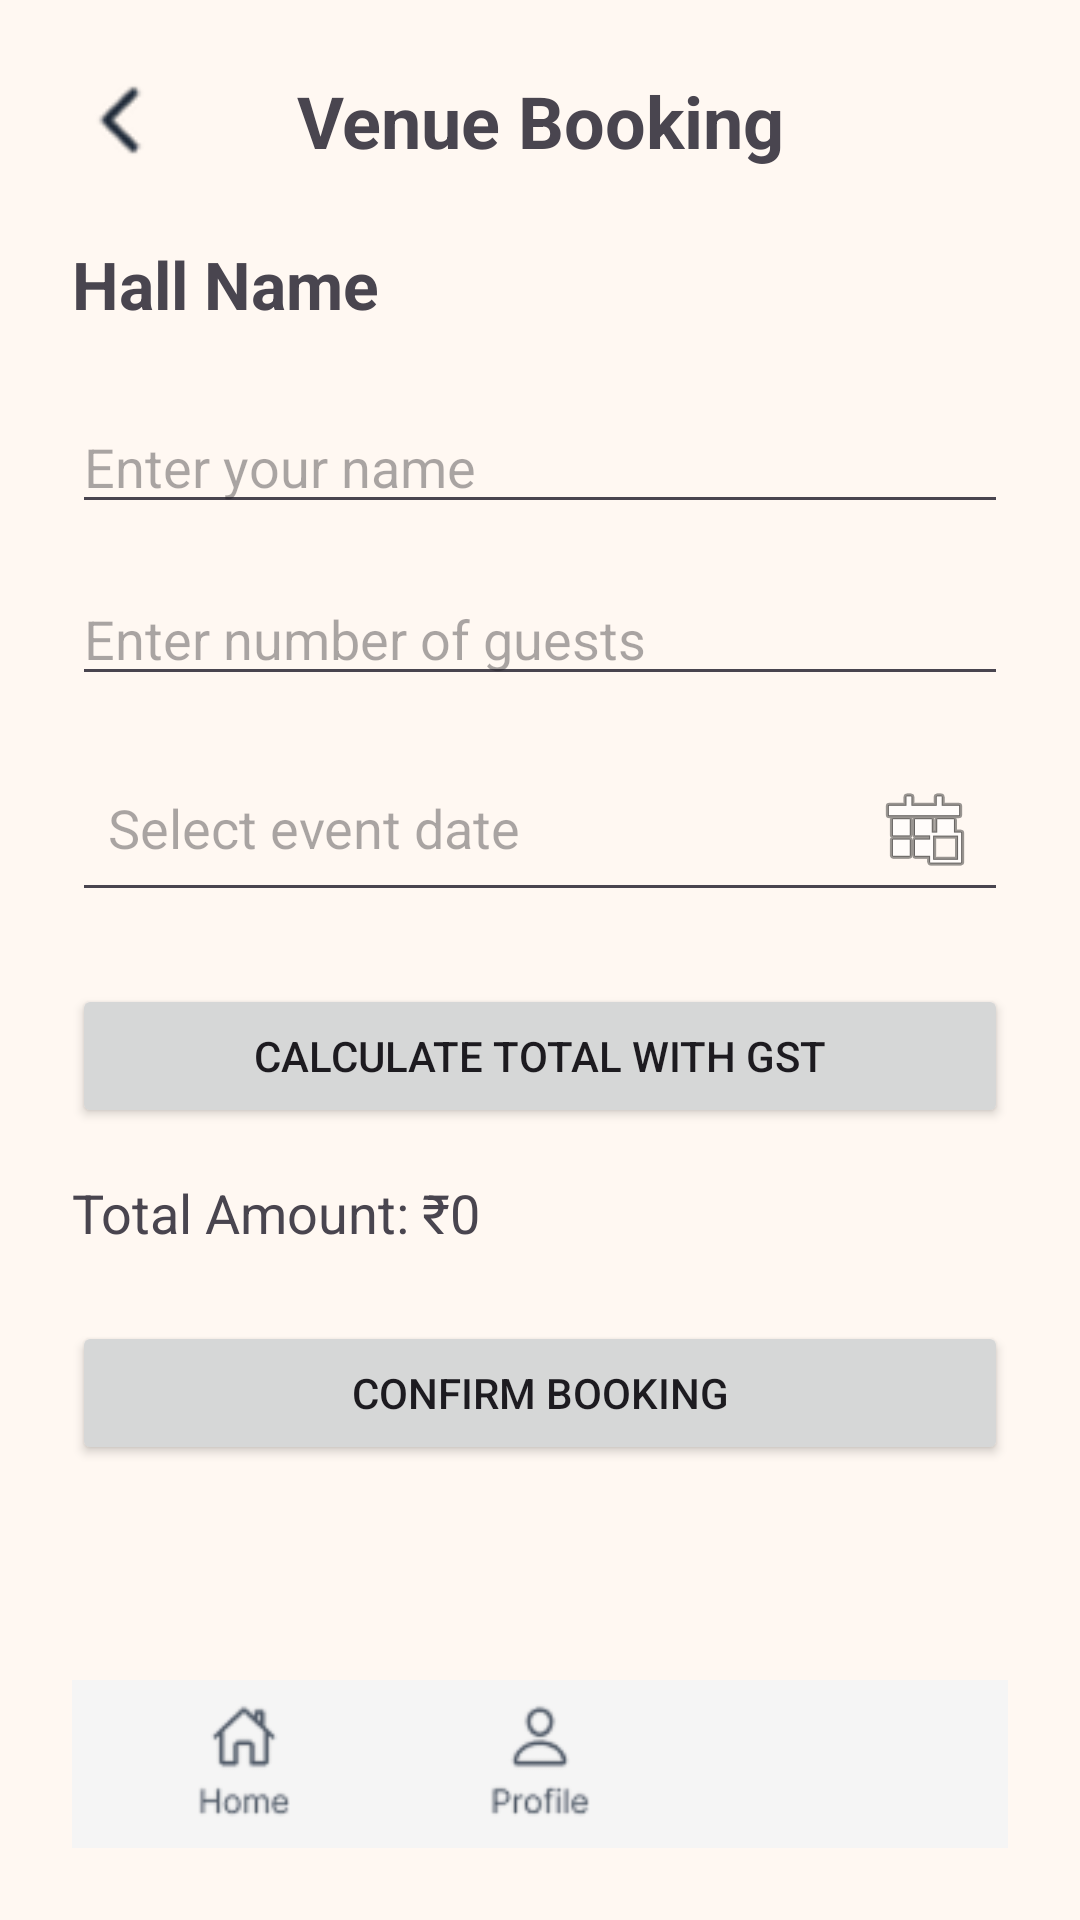

Screen size 1080×1920. Icon name, then its box in pixels as (x1, y1, x2, y2):
Back: (99, 86, 141, 154)
